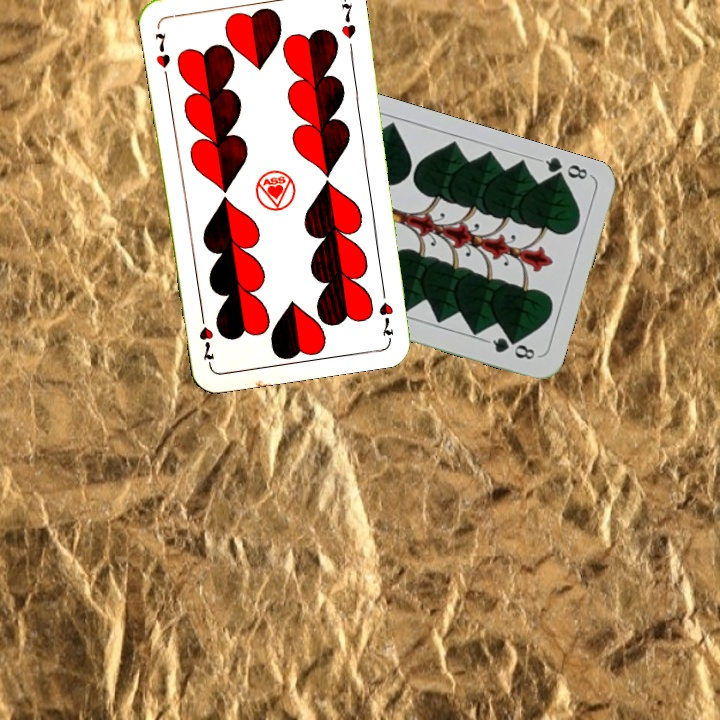G8: (535, 154, 593, 186)
H7: (376, 282, 397, 341), (151, 28, 173, 70)
